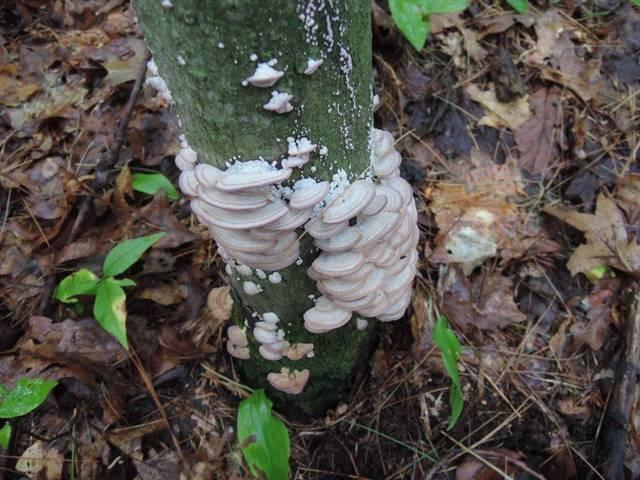Non-edible Mushroom: (127, 0, 421, 417)
